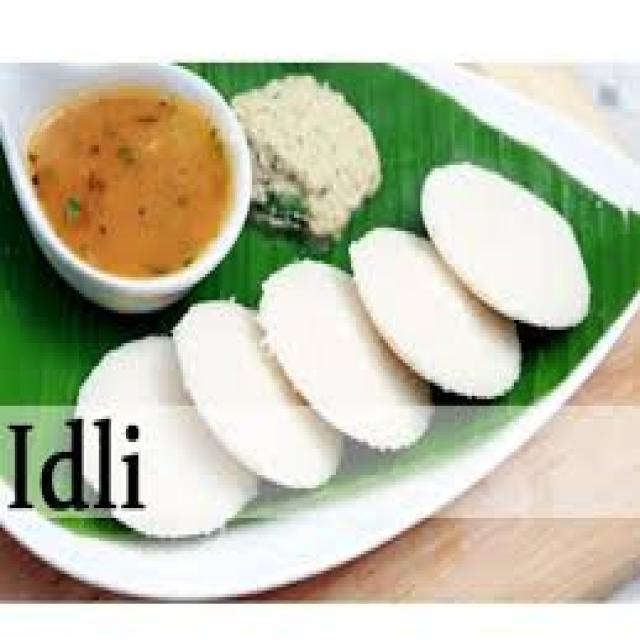IDLI: (263, 257, 436, 459), (178, 296, 344, 490), (356, 231, 522, 394), (420, 167, 588, 328)
